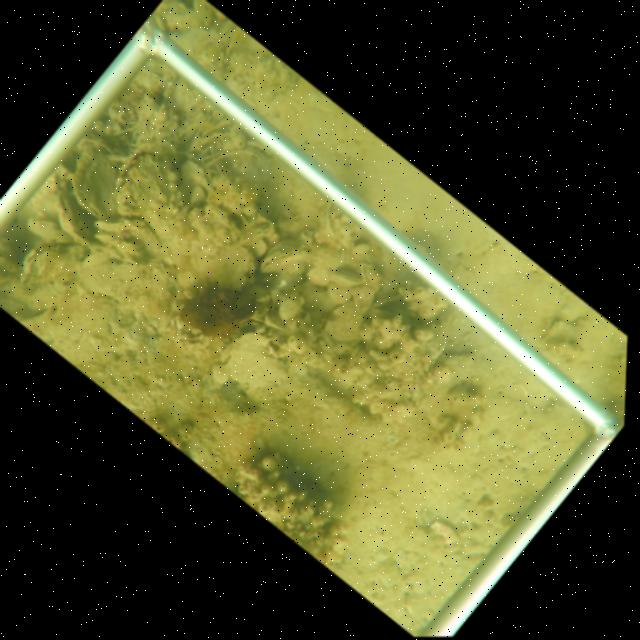Oyster-Closed: (220, 334, 288, 405), (17, 240, 86, 290), (49, 189, 94, 247), (261, 240, 312, 274), (314, 201, 342, 250), (180, 160, 212, 194), (234, 243, 258, 286), (90, 245, 136, 265), (323, 278, 354, 307), (277, 288, 304, 321), (24, 217, 60, 240), (331, 266, 361, 290), (191, 0, 214, 30), (307, 263, 333, 289), (240, 222, 270, 243), (359, 262, 376, 287), (252, 238, 269, 258), (252, 291, 271, 305), (154, 16, 169, 33), (350, 243, 370, 255)
Oyster-Indeterminate: (70, 148, 119, 218), (318, 300, 369, 355), (92, 219, 124, 236)
